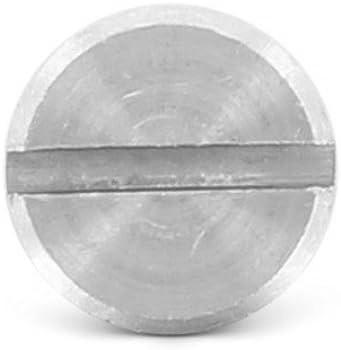screw: (9, 0, 337, 341)
